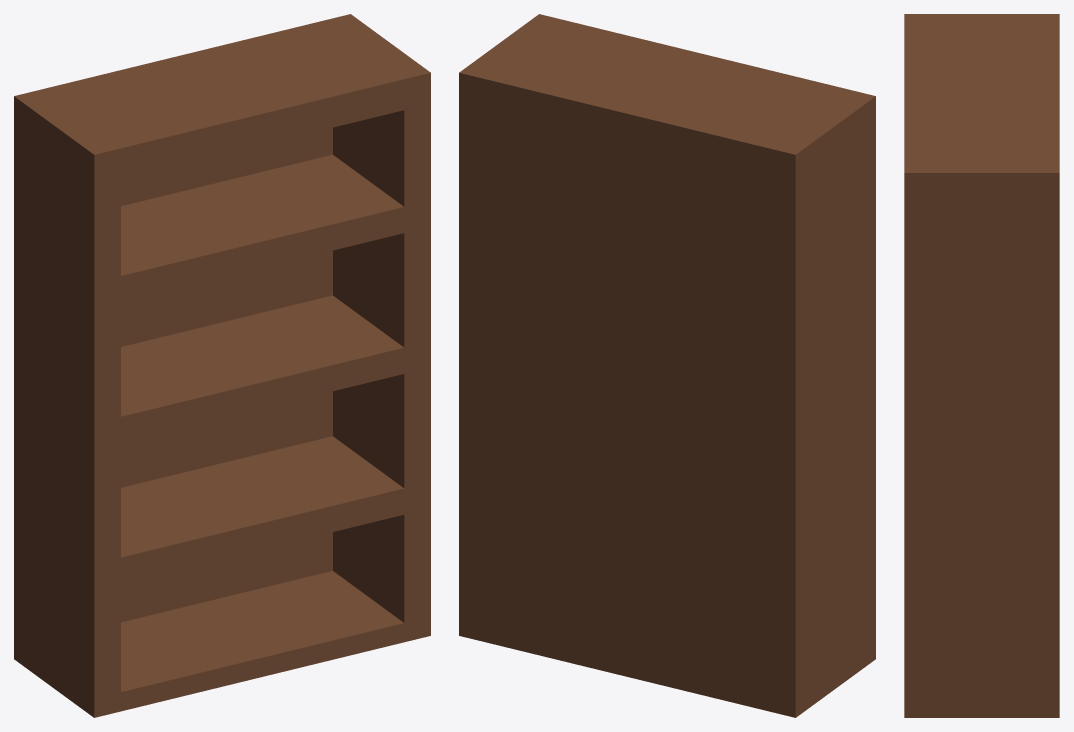
The model's file is Wardrobe.fbx.
3 views of the same model, side by side, from view 1: azimuth 30°, elevation 25°; view 2: azimuth 150°, elevation 25°; view 3: azimuth 270°, elevation 25° (orthographic). The views are drawn at different scales.
Parts seen in each view (by area): view 1: Wardrobe; view 2: Wardrobe; view 3: Wardrobe.
Boxes of the visible parts, x1=… form: Wardrobe: x1=14, y1=14, x2=430, y2=717; Wardrobe: x1=459, y1=14, x2=875, y2=717; Wardrobe: x1=904, y1=14, x2=1059, y2=717.
Bounding box in the file's own units: 128 × 204 × 52.64.
